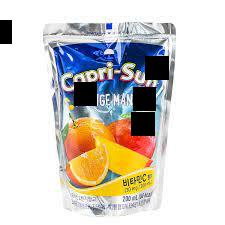cafrisun: (40, 18, 175, 218)
